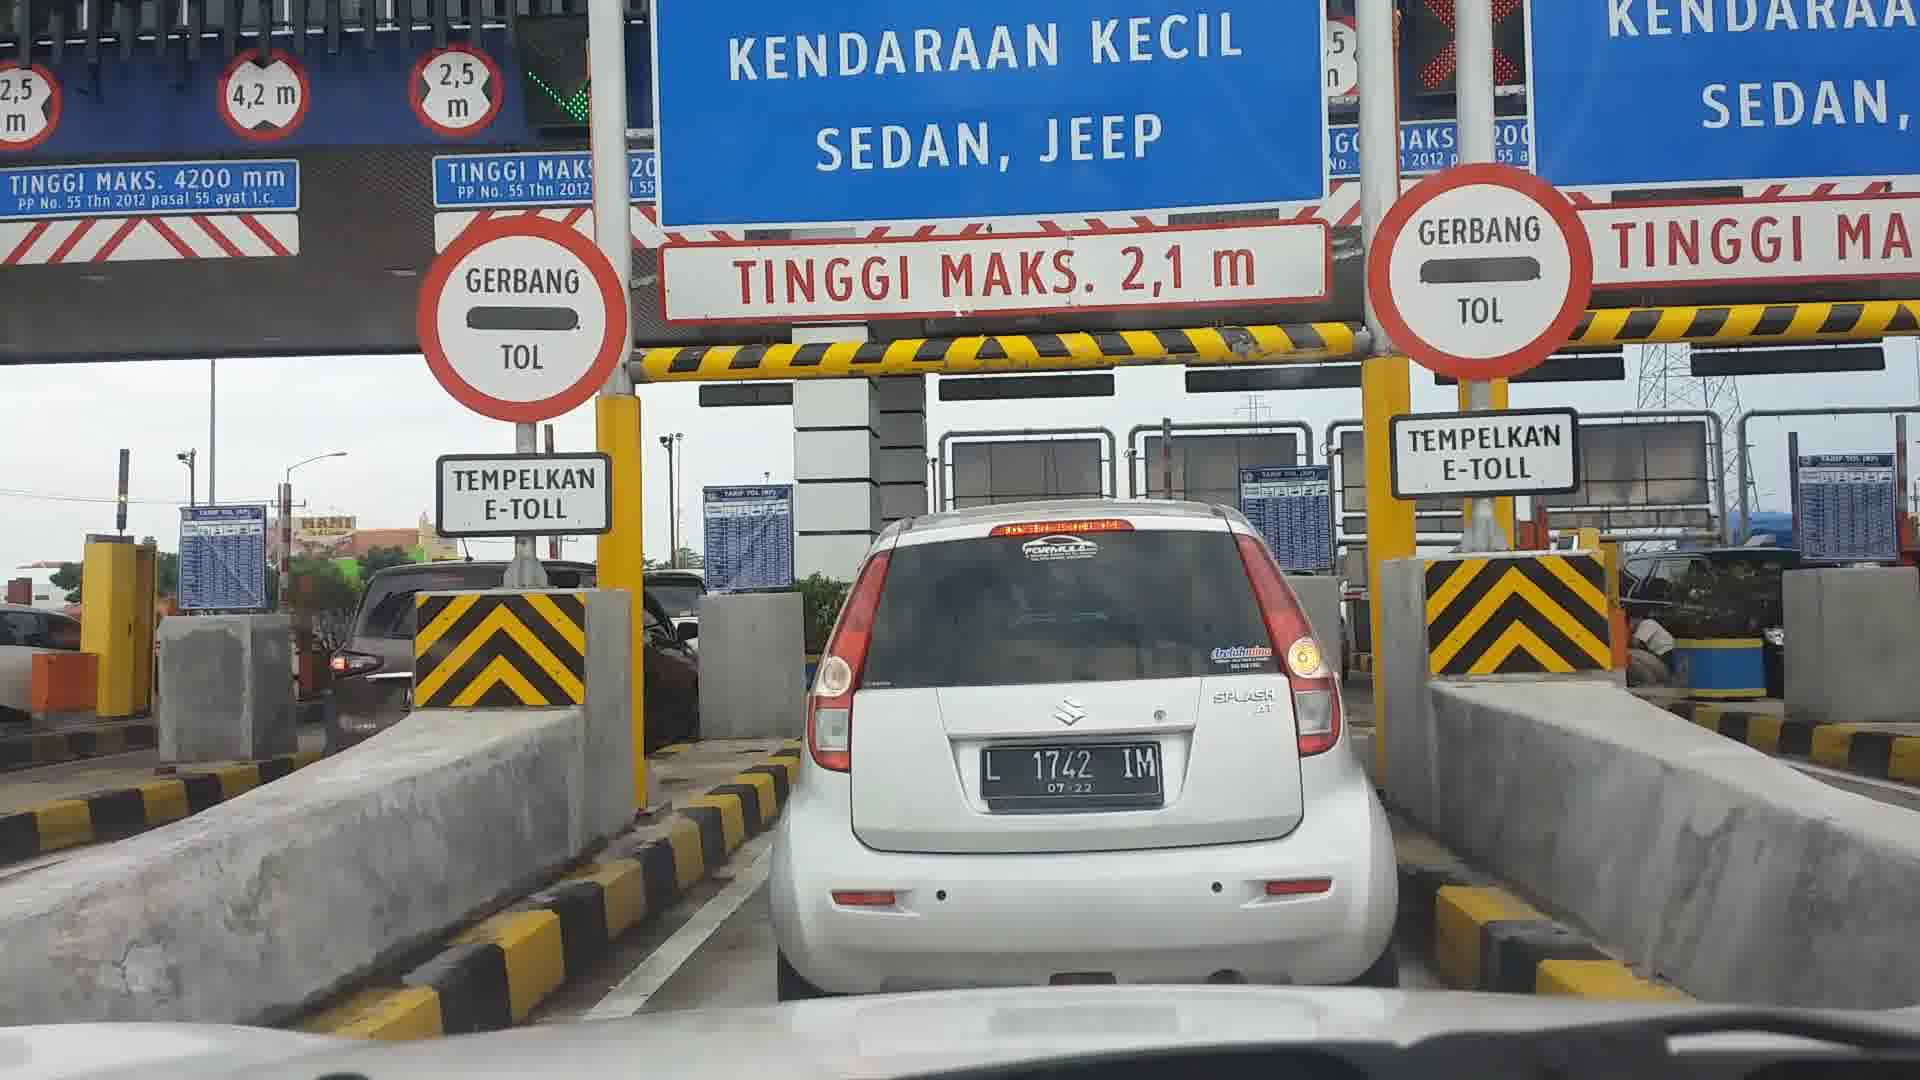plate_positive: (980, 741, 1163, 811)
